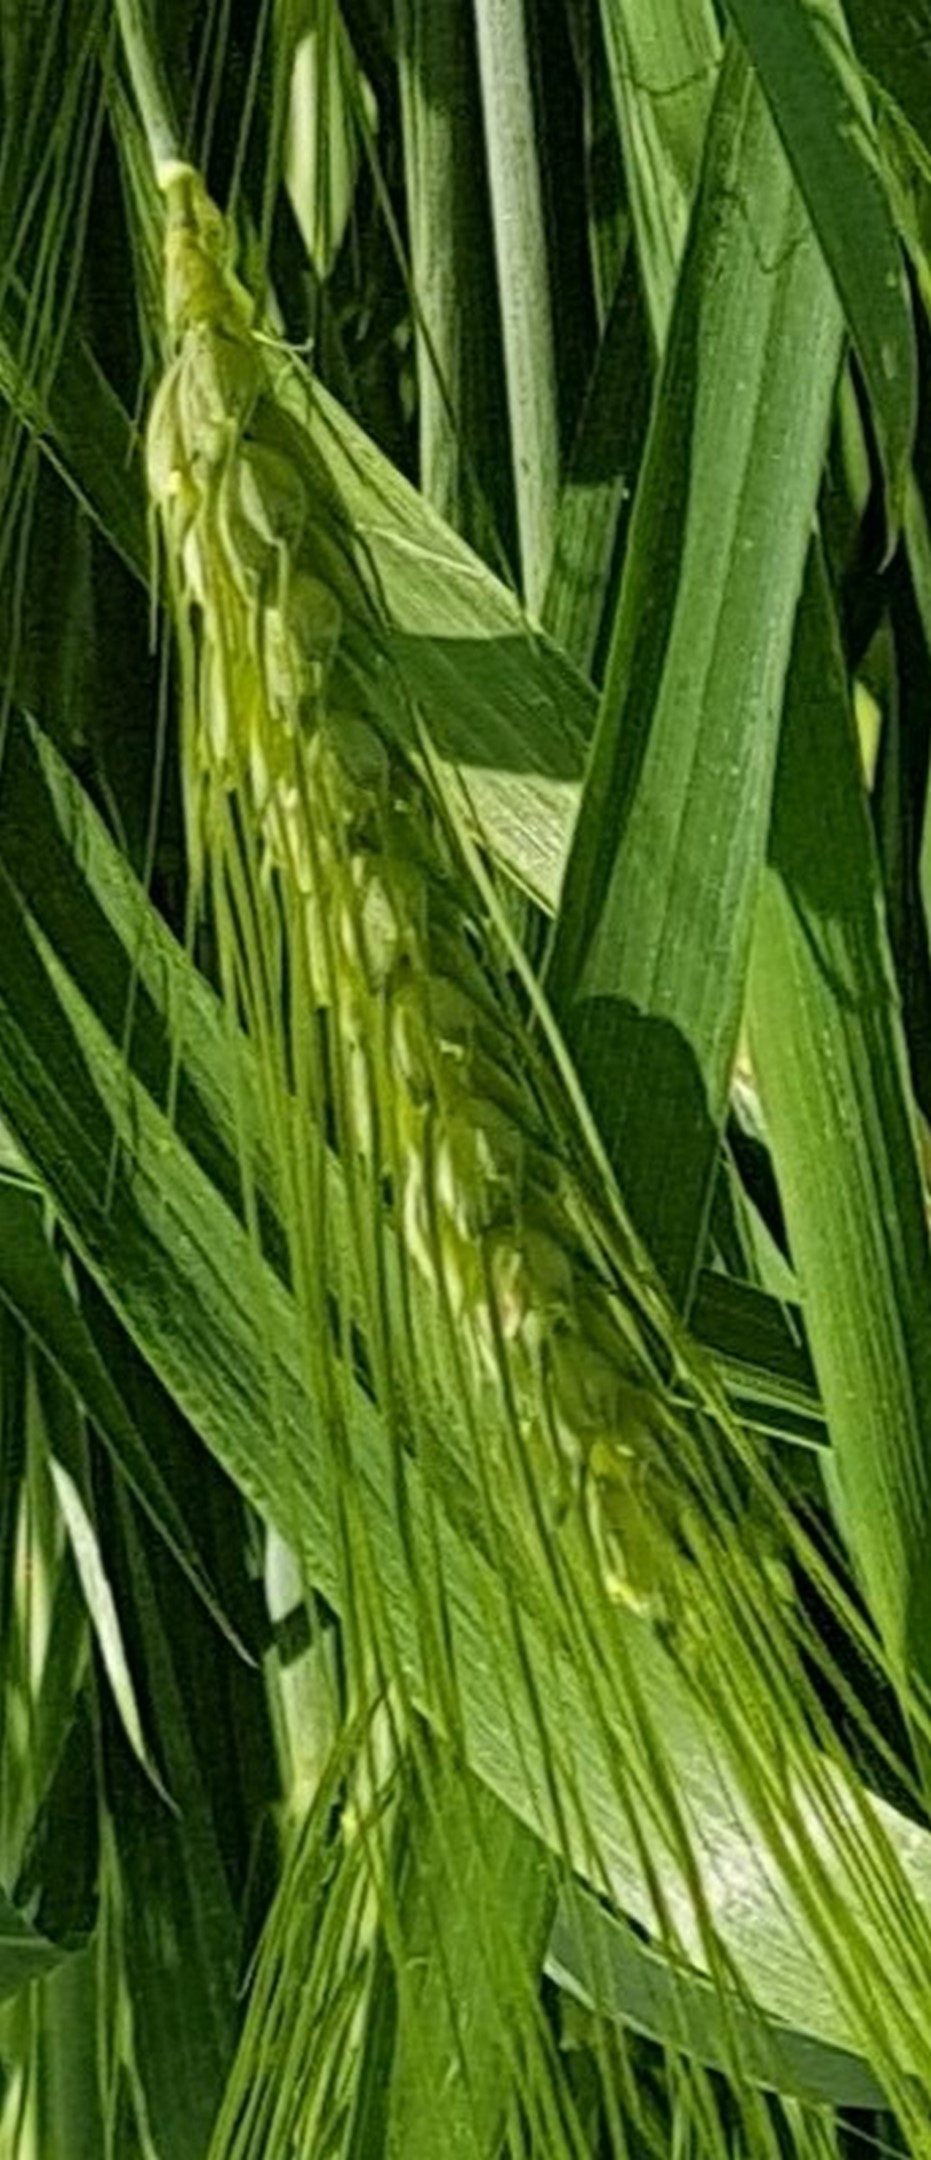Healthy Wheat: (134, 342, 782, 1610)
